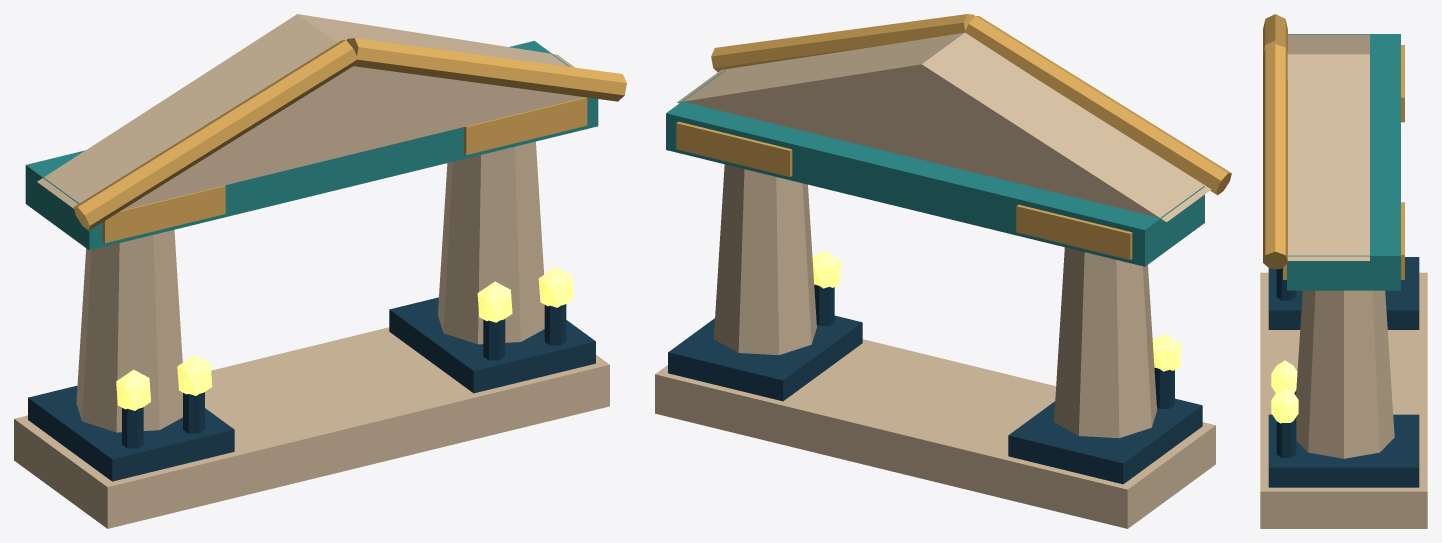
File: gate_aegean.glb
3 views of the same model, side by side, from view 1: azimuth 30°, elevation 25°; view 2: azimuth 150°, elevation 25°; view 3: azimuth 270°, elevation 25° (orthographic). The views are drawn at different scales.
Parts seen in each view (by area): view 1: Landmark stone bed, Pediment, Great pier.001, Great pier, Gate lintel, Roof edge, Wall footing.001, Wall footing, Roof edge.001, Pier cornice.001, Pier cornice, Oil lamp.003 (+7 smaller); view 2: Pediment, Landmark stone bed, Gate lintel, Great pier, Great pier.001, Wall footing.001, Wall footing, Roof edge, Roof edge.001, Pier cornice, Pier cornice.001, Oil lamp (+3 smaller); view 3: Pediment, Great pier.001, Landmark stone bed, Gate lintel, Wall footing.001, Roof edge.001, Wall footing, Oil lamp.003, Roof edge, Lantern stand.003, Oil lamp.002, Lantern stand.001 (+2 smaller).
Boxes of the visible parts, x1,y1,x2,y2 form: Landmark stone bed: (14,327,609,528); Pediment: (37,14,584,210); Great pier.001: (438,141,544,344); Great pier: (76,229,182,432); Gate lintel: (25,41,598,250); Roof edge: (73,40,357,230); Wall footing.001: (389,297,595,393); Wall footing: (28,385,234,481); Roof edge.001: (346,38,626,101); Pier cornice.001: (464,97,587,154); Pier cornice: (102,185,225,243); Oil lamp.003: (538,266,573,307); Pediment: (677,32,1211,222); Landmark stone bed: (655,339,1215,528); Gate lintel: (666,69,1204,266); Great pier: (1054,247,1156,438); Great pier.001: (713,164,816,355); Wall footing.001: (668,315,862,401); Wall footing: (1008,398,1202,484); Roof edge: (964,16,1231,195); Roof edge.001: (711,14,974,71); Pier cornice: (1016,204,1132,259); Pier cornice.001: (676,121,792,176); Oil lamp: (1152,333,1181,371); Pediment: (1287,34,1369,260); Great pier.001: (1296,290,1394,458); Landmark stone bed: (1260,272,1427,528); Gate lintel: (1287,34,1400,290); Wall footing.001: (1268,414,1419,487); Roof edge.001: (1263,44,1287,268); Wall footing: (1268,257,1419,329); Oil lamp.003: (1271,387,1298,423); Roof edge: (1263,14,1287,53); Lantern stand.003: (1276,417,1296,457); Oil lamp.002: (1271,360,1297,392); Lantern stand.001: (1276,267,1296,300).
Bounding box in the file's own units: 4.1 × 3.04 × 1.22.
